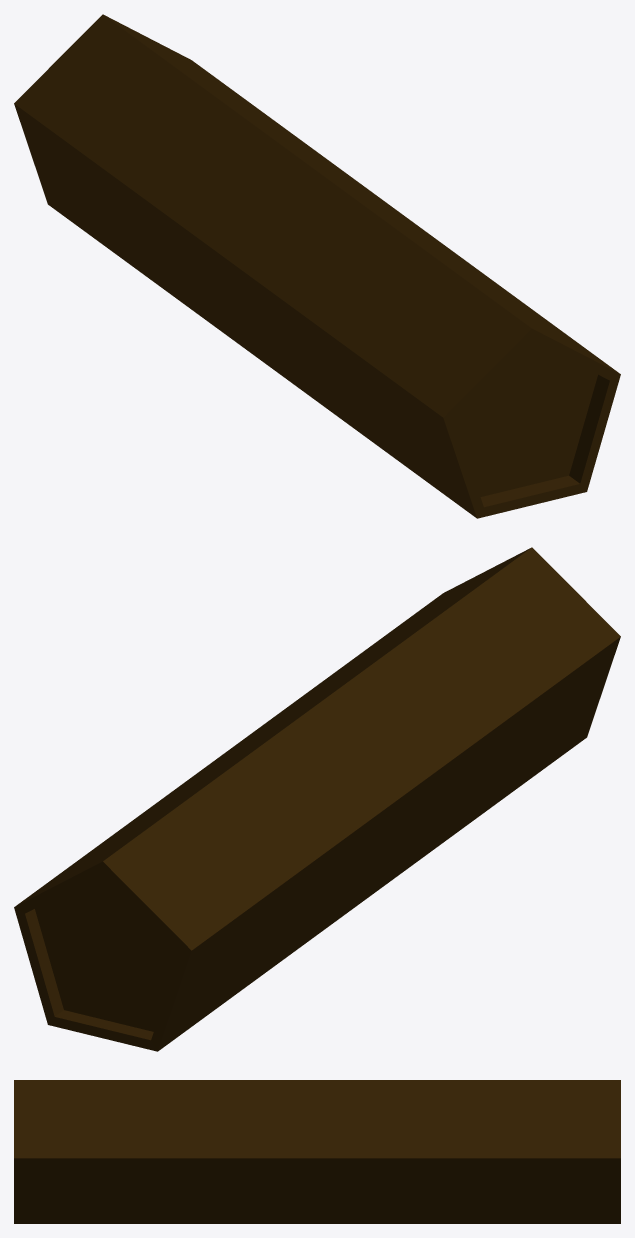
Rendered from Tree_Log_1.fbx.
3 views of the same model, one above another, from view 1: azimuth 30°, elevation 25°; view 2: azimuth 150°, elevation 25°; view 3: azimuth 270°, elevation 25° (orthographic). The views are drawn at different scales.
Visible parts, largest first — view 1: TreeLog1; view 2: TreeLog1; view 3: TreeLog1.
Part boxes in pixels (x1,y1,x2,y2): TreeLog1: (14,14,620,518); TreeLog1: (14,547,620,1051); TreeLog1: (14,1080,620,1223).
Bounding box in the file's own units: 67.85 × 64.53 × 284.
